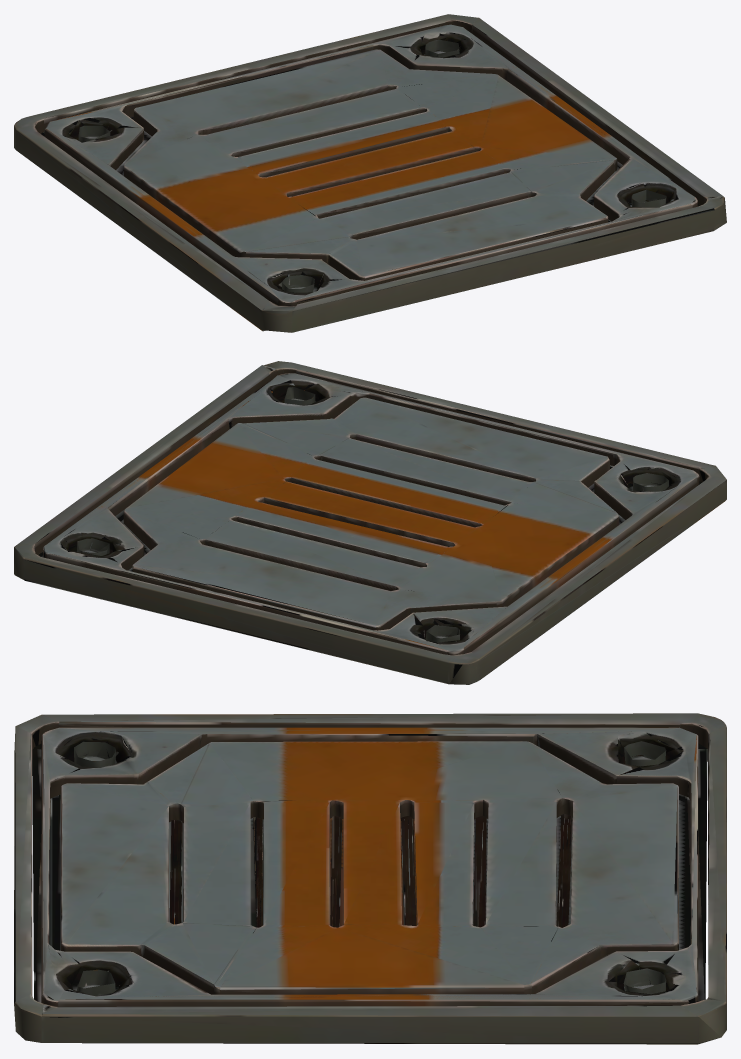
The model's file is blk_cyber_ceiling.glb.
The picture shows the model from 3 angles, top to bottom: view 1: azimuth 30°, elevation 25°; view 2: azimuth 150°, elevation 25°; view 3: azimuth 270°, elevation 25°; orthographic projection. The views are drawn at different scales.
Parts seen in each view (by area): view 1: geometry_0; view 2: geometry_0; view 3: geometry_0.
Boxes of the visible parts, <box> form: geometry_0: <box>14,14,726,332</box>; geometry_0: <box>14,361,726,684</box>; geometry_0: <box>14,713,726,1044</box>.
Size of the model in its own units: 0.9536 by 0.0449 by 0.9507.
1 material, 1 textured.
